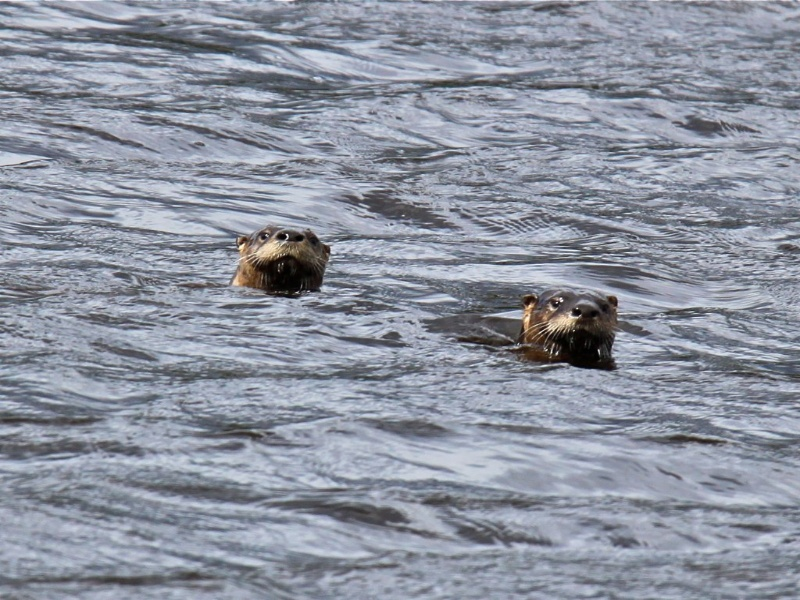minkish: (513, 286, 628, 367), (226, 229, 333, 303)
